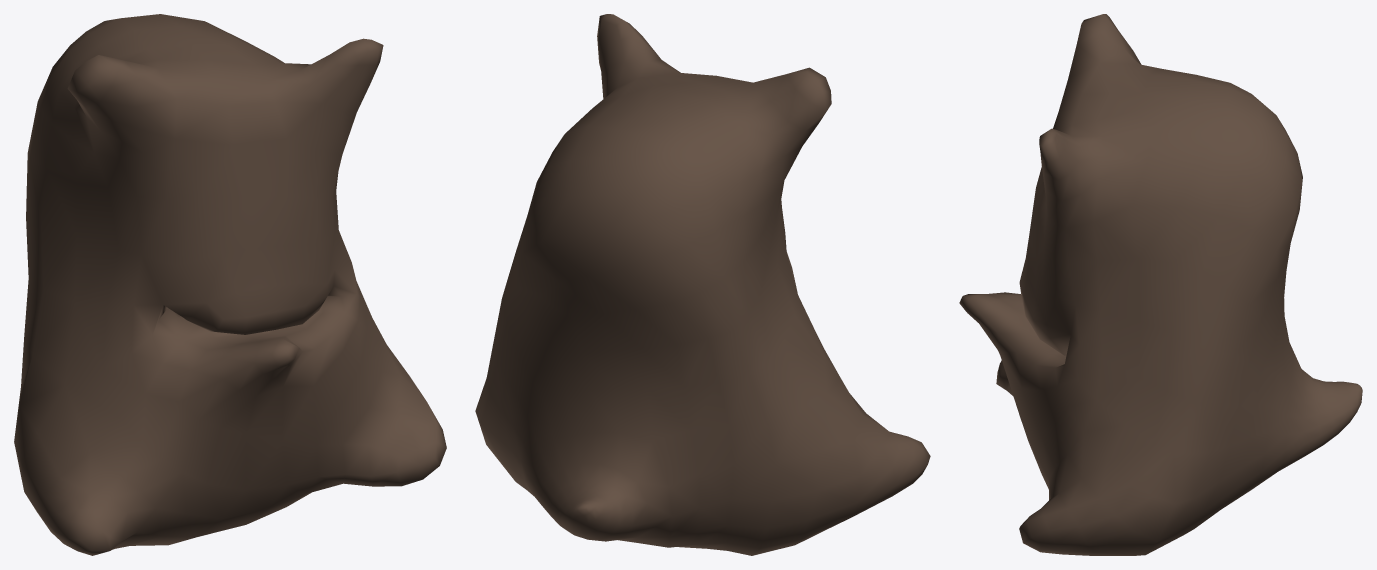
Rendered from monstre4_failE.FBX.
3 views of the same model, side by side, from view 1: azimuth 30°, elevation 25°; view 2: azimuth 150°, elevation 25°; view 3: azimuth 270°, elevation 25° (orthographic). The views are drawn at different scales.
Visible parts, largest first — view 1: monstre4-fail; view 2: monstre4-fail; view 3: monstre4-fail.
Boxes of the visible parts, left/top/right/bottom form: monstre4-fail: left=14, top=14, right=446, bottom=555; monstre4-fail: left=475, top=14, right=930, bottom=555; monstre4-fail: left=959, top=14, right=1362, bottom=555.
Bounding box in the file's own units: 18.55 × 22.15 × 18.26.
